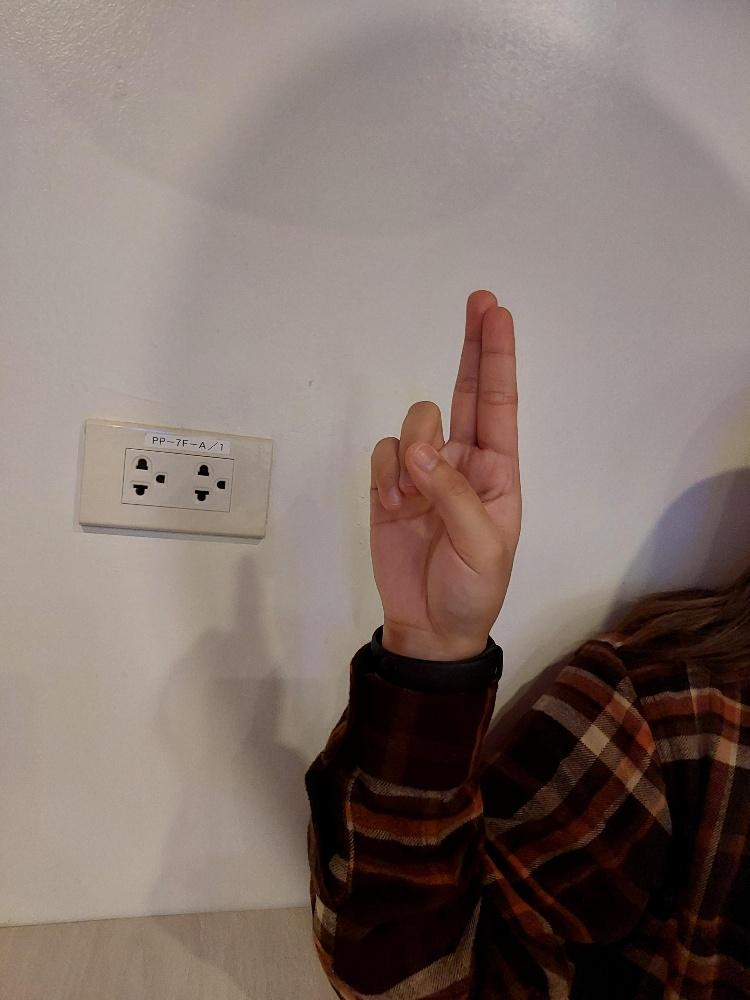u: (366, 285, 525, 646)
